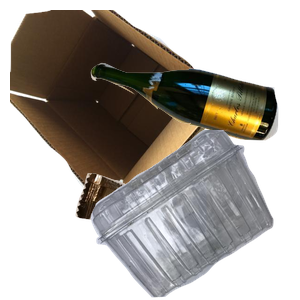cardboard: (10, 10, 218, 190)
glass: (88, 60, 300, 193)
plastic: (88, 130, 300, 300)
trash: (73, 171, 242, 300)
